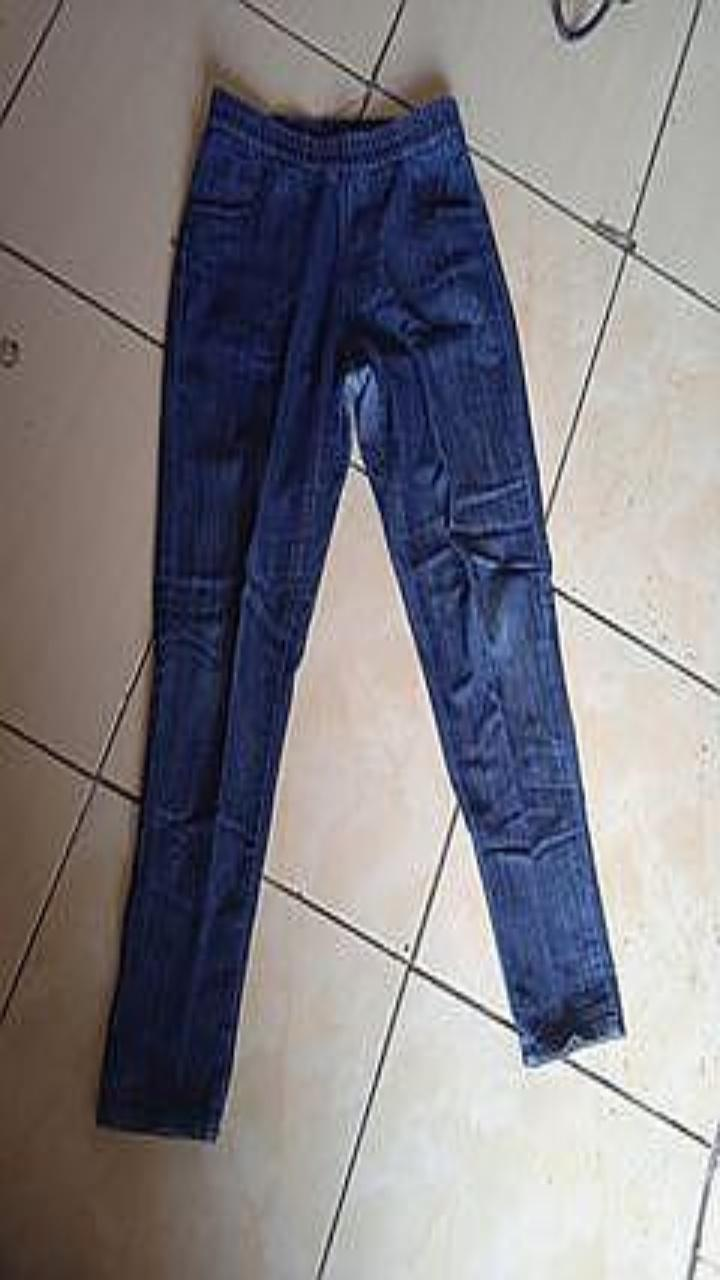Jeans: (97, 86, 623, 1139)
